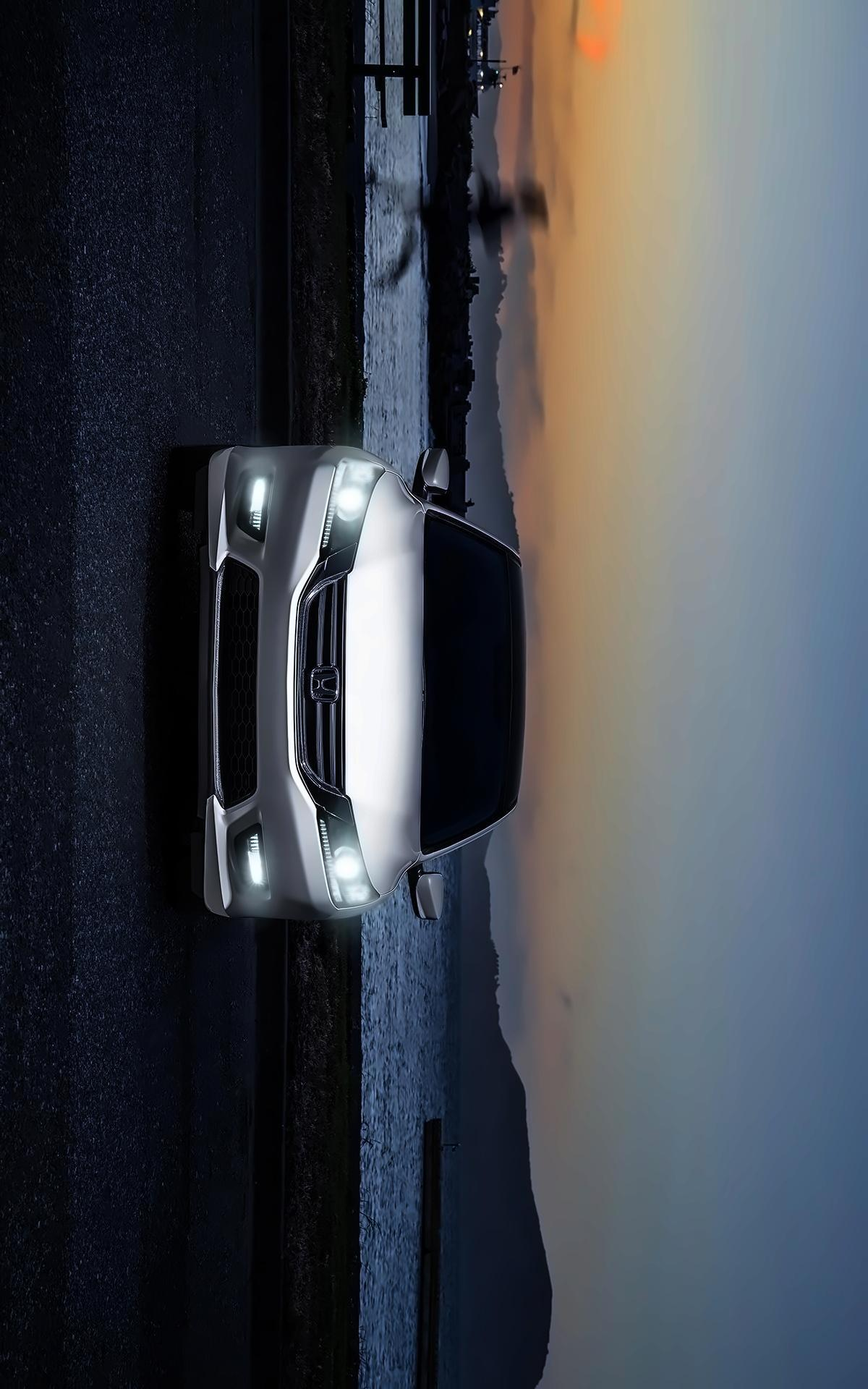Car hood: (333, 466, 433, 907)
Front bumper: (191, 436, 344, 930)
Headlight - -L-: (309, 793, 382, 918)
Headlight - -R-: (312, 449, 387, 594)
Side mirror - -L-: (400, 865, 454, 929)
Side mirror - -R-: (412, 443, 459, 502)
